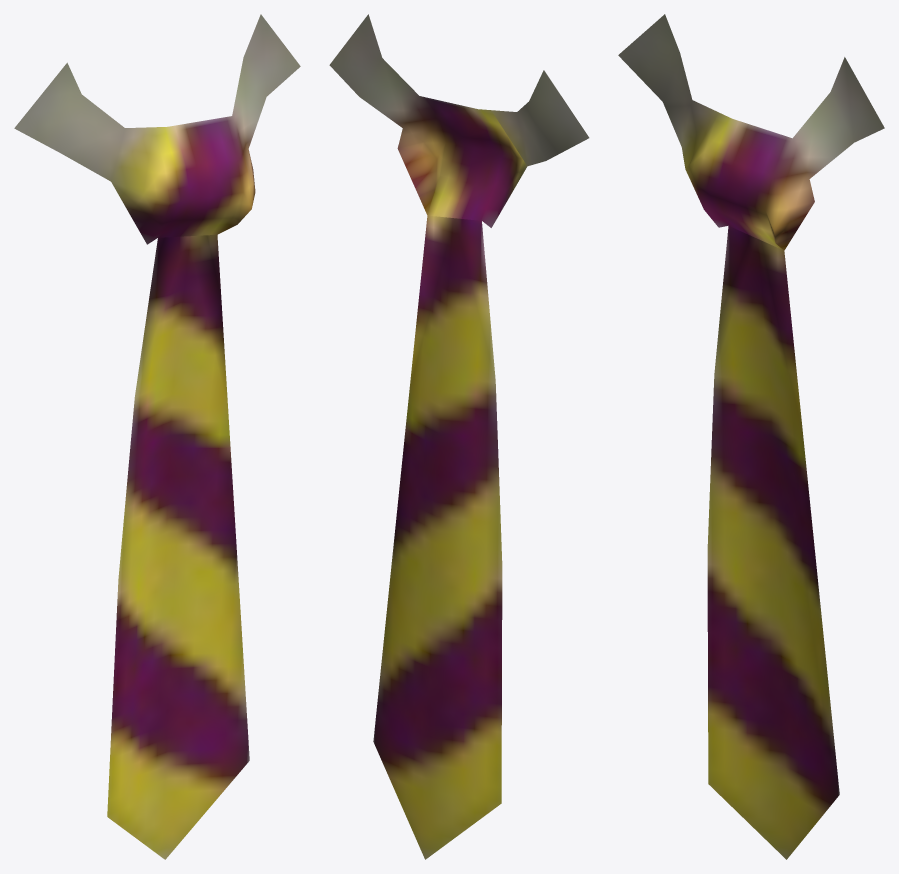
The model's file is clip-on-tie.glb.
3 views of the same model, side by side, from view 1: azimuth 30°, elevation 25°; view 2: azimuth 150°, elevation 25°; view 3: azimuth 330°, elevation 25° (orthographic). The views are drawn at different scales.
Visible parts, largest first — view 1: clip-on-tie; view 2: clip-on-tie; view 3: clip-on-tie.
Part boxes in pixels (x1,y1,x2,y2): clip-on-tie: [14, 14, 300, 859]; clip-on-tie: [329, 14, 589, 859]; clip-on-tie: [618, 14, 884, 859].
Size of the model in its own units: 1.16 by 3.37 by 0.3599.
1 material, 1 textured.
